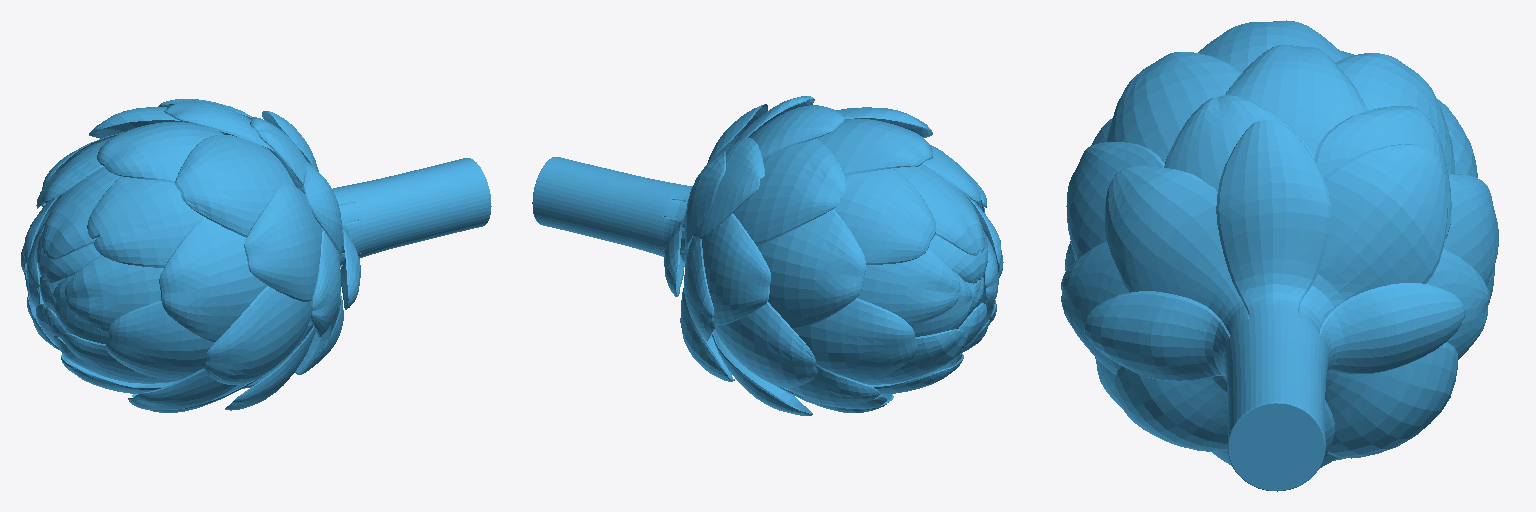
The robot description file, URDF, robot "free3dmodels_veggie_artichoke":
<?xml version="1.0" ?>
<robot name="free3dmodels_veggie_artichoke">
	<link name="base"/>
	<link name="link_1">
		<visual name="body-6">
			<origin xyz="0 0 0"/>
			<geometry>
				<mesh filename="artichoke.obj"/>
			</geometry>
		</visual>
		<collision>
			<origin xyz="0 0 0"/>
			<geometry>
				<mesh filename="artichoke.obj"/>
			</geometry>
		</collision>
	</link>
	<joint name="joint_1" type="fixed">
		<origin rpy="1.570796326794897 0 -1.570796326794897" xyz="0 0 0"/>
		<child link="link_1"/>
		<parent link="base"/>
	</joint>
</robot>

--- Render facts (derived) ---
Views: 3 orthographic renders of the robot side by side, from view 1: azimuth 30°, elevation 25°; view 2: azimuth 150°, elevation 25°; view 3: azimuth 270°, elevation 25°.
Model free3dmodels_veggie_artichoke with 2 links and 1 joints (1 fixed), rooted at base, posed every joint at zero.
Visible links, largest first — view 1: link_1; view 2: link_1; view 3: link_1.
Boxes of the visible links, x1,y1,x2,y2 form: link_1: [21, 99, 491, 412]; link_1: [532, 96, 1003, 415]; link_1: [1061, 20, 1498, 491].
Size in the robot's own frame: 11.08 by 7.02 by 7.07 metres.
Meshes: 1 distinct files referenced, 1 mesh visuals loaded (1 OBJ).
